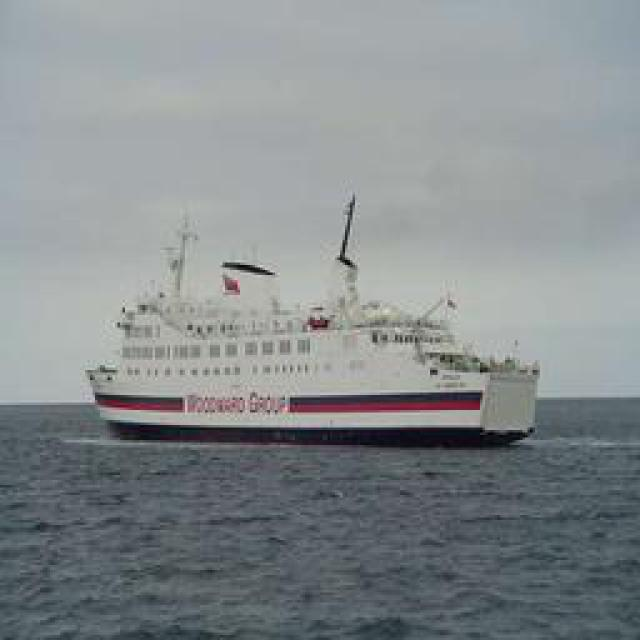Ship: (77, 189, 540, 449)
